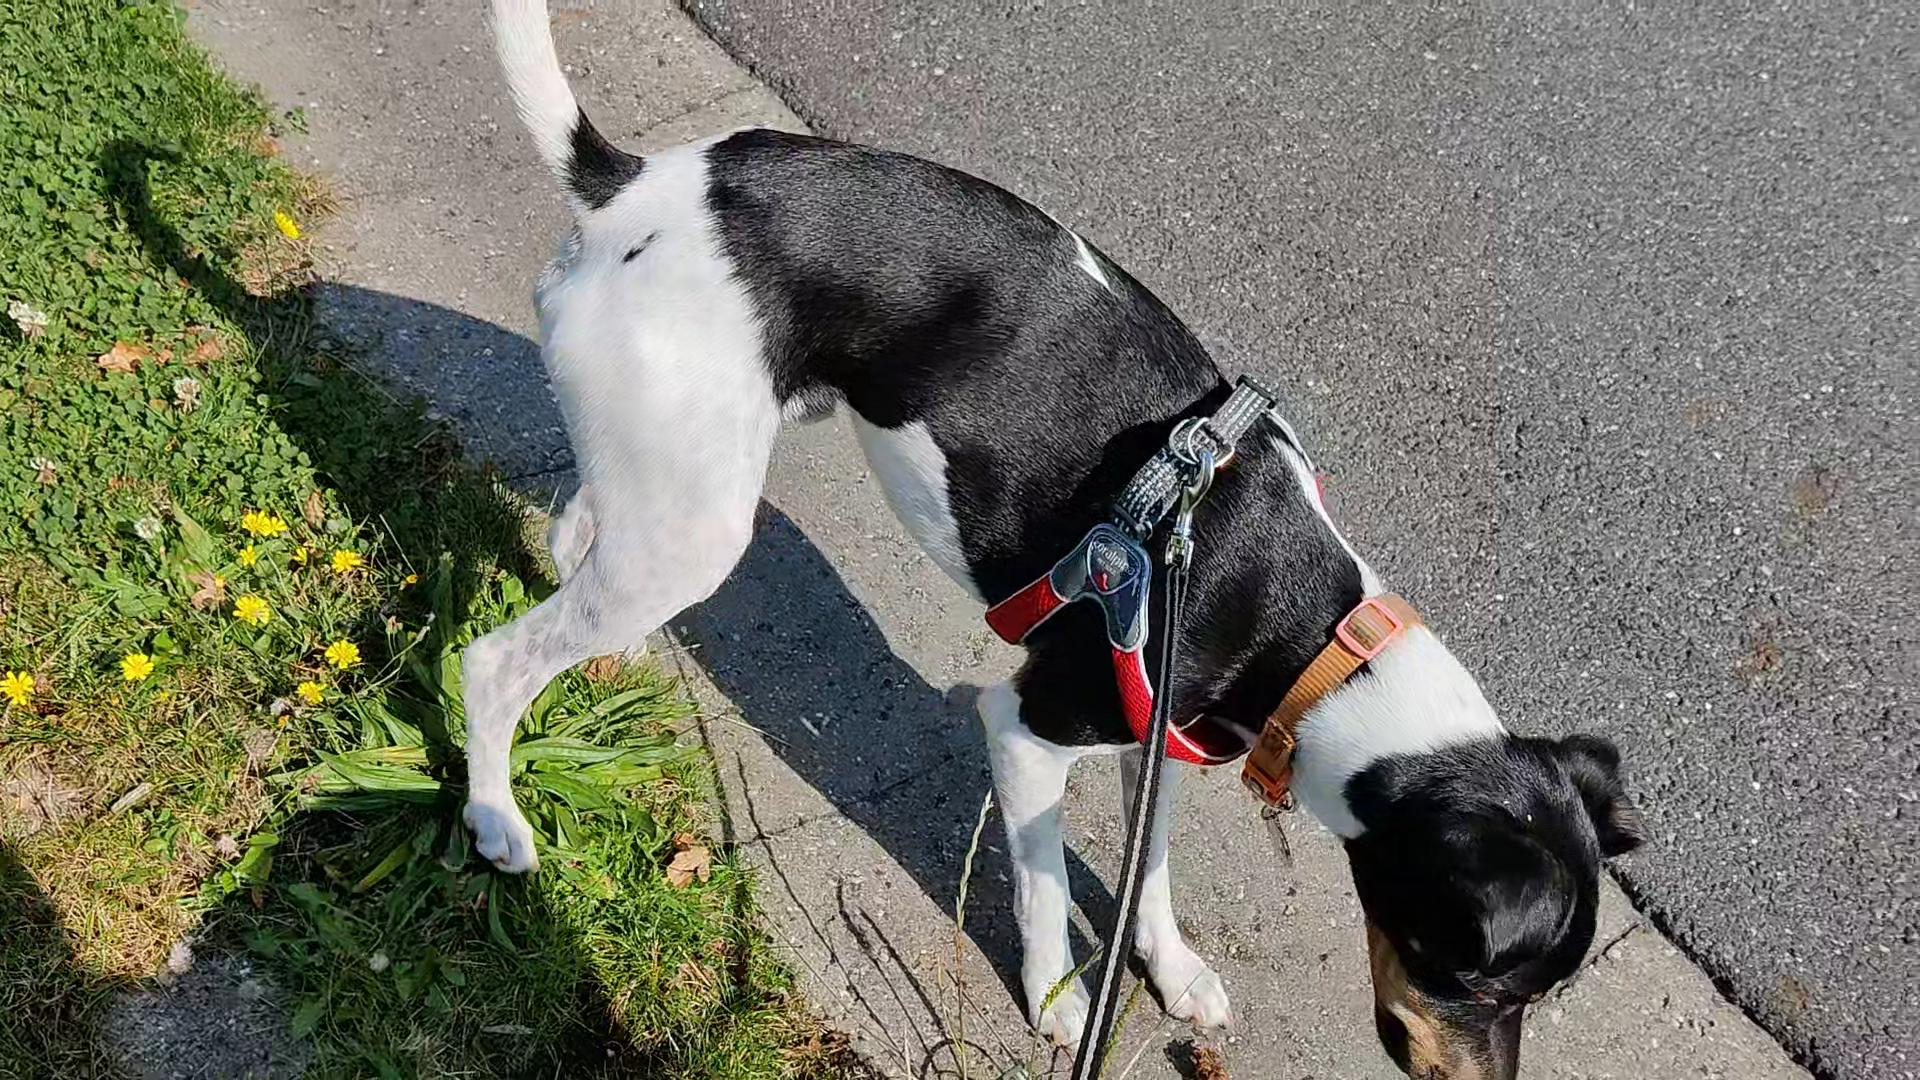Dog: (443, 0, 1673, 1079)
